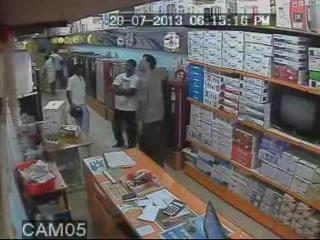Normal: (136, 54, 166, 163), (269, 86, 320, 146), (112, 59, 140, 150), (65, 64, 88, 132)
